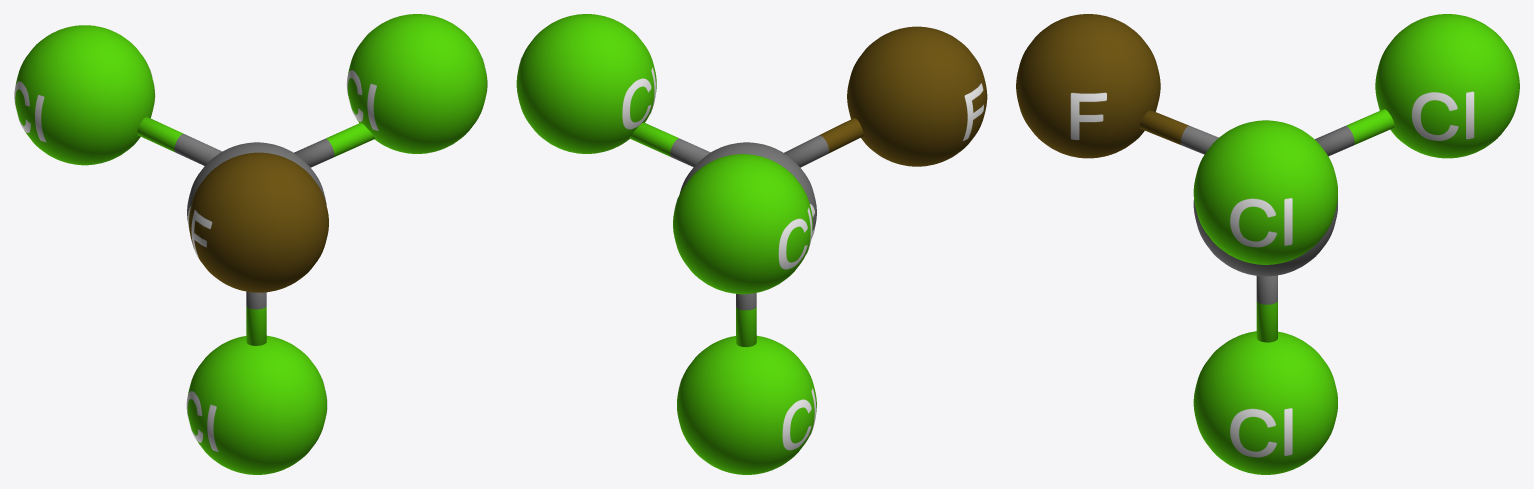
The model's file is clorofluorcarbono.glb.
The picture shows the model from 3 angles, left to right: view 1: azimuth 30°, elevation 25°; view 2: azimuth 150°, elevation 25°; view 3: azimuth 270°, elevation 25°; orthographic projection. The views are drawn at different scales.
Visible parts, largest first — view 1: Mol molde 24; view 2: Mol molde 24; view 3: Mol molde 24.
Part boxes in pixels (x1,y1,x2,y2): Mol molde 24: (14, 14, 487, 474); Mol molde 24: (516, 14, 987, 474); Mol molde 24: (1016, 14, 1519, 474).
Size of the model in its own units: 0.9202 by 0.983 by 1.06.
2 materials, 2 textured.
